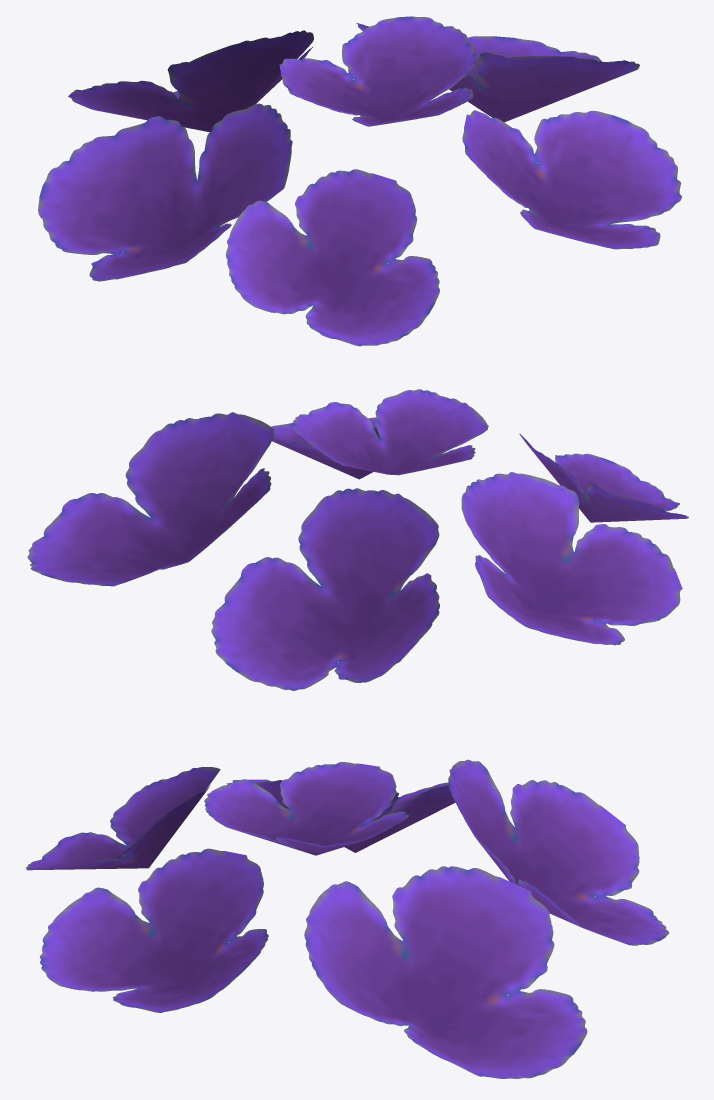
File: Plant_7.glb
3 renders of one model, top to bottom at view 1: azimuth 30°, elevation 25°; view 2: azimuth 150°, elevation 25°; view 3: azimuth 270°, elevation 25°, orthographic. The views are drawn at different scales.
Visible parts, largest first — view 1: Plant_7; view 2: Plant_7; view 3: Plant_7.
Part boxes in pixels (bbox=[...]): Plant_7: bbox=[38, 16, 681, 346]; Plant_7: bbox=[27, 389, 688, 690]; Plant_7: bbox=[26, 759, 669, 1078].
Size of the model in its own units: 1.05 by 0.2494 by 0.9621.
Materials: 1 (1 with a texture image).
